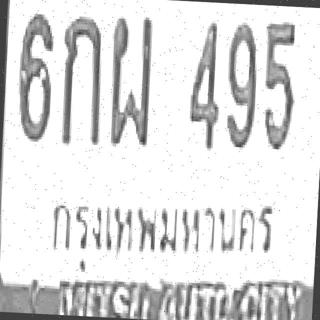A01: (57, 14, 104, 146)
A28: (105, 13, 156, 148)
N04: (186, 17, 223, 149)
N05: (258, 18, 297, 150)
N06: (15, 11, 56, 142)
N09: (222, 19, 259, 148)
P04: (42, 177, 278, 282)
